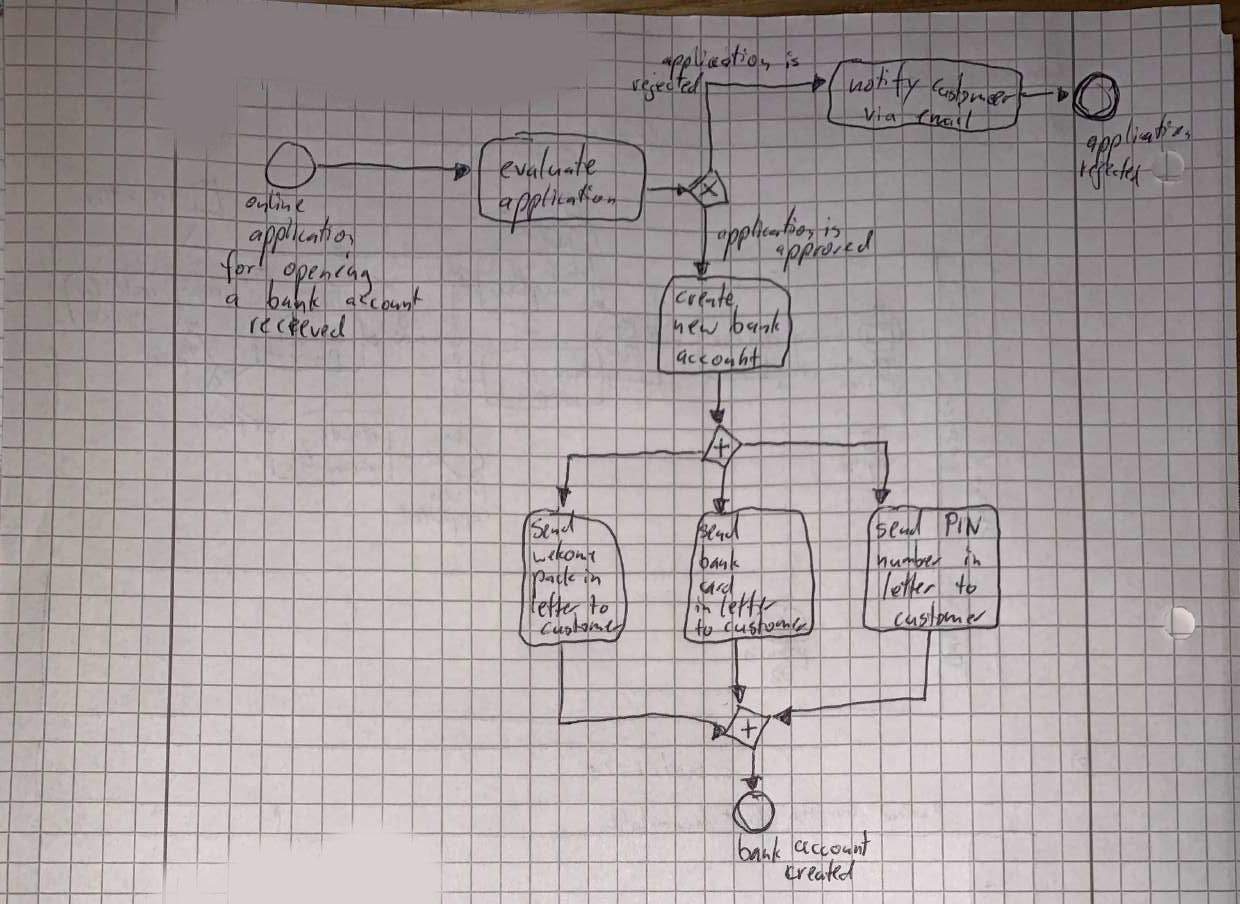PIN: (934, 507, 991, 540)
a: (218, 284, 246, 312)
account: (791, 828, 877, 862), (339, 286, 430, 317), (672, 343, 763, 370)
application: (493, 179, 626, 233), (1078, 112, 1206, 162), (239, 215, 364, 262), (659, 37, 776, 78), (709, 209, 819, 246)
approved: (772, 242, 882, 275)
bank: (257, 280, 334, 314), (725, 303, 787, 338), (730, 834, 793, 865), (695, 540, 741, 573)
card: (695, 574, 740, 599)
create: (669, 283, 742, 311)
created: (778, 858, 861, 885)
customer: (924, 62, 1020, 109), (891, 604, 991, 632), (714, 612, 815, 639), (539, 614, 630, 639)
email: (913, 101, 985, 129)
evaluate: (496, 144, 605, 184)
for: (208, 247, 262, 283)
in: (955, 541, 987, 572), (686, 599, 718, 621), (578, 567, 603, 590)
is: (780, 40, 806, 82), (816, 213, 850, 242)
letter: (871, 571, 945, 603), (717, 592, 784, 618), (526, 593, 581, 620)
new: (666, 314, 727, 339)
notify: (838, 61, 927, 107)
number: (873, 541, 954, 572)
online: (240, 185, 314, 218)
opening: (280, 247, 384, 289)
pack: (531, 565, 580, 594)
recieved: (243, 310, 355, 345)
rejected: (1069, 157, 1148, 195), (627, 68, 708, 102)
send: (872, 507, 929, 545), (694, 513, 750, 541), (529, 514, 577, 545)
to: (950, 574, 984, 600), (585, 591, 615, 620), (689, 617, 718, 641)
via: (860, 103, 903, 126)
welcome: (527, 539, 605, 567)
